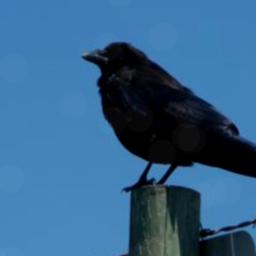Crow: (77, 38, 256, 193)
